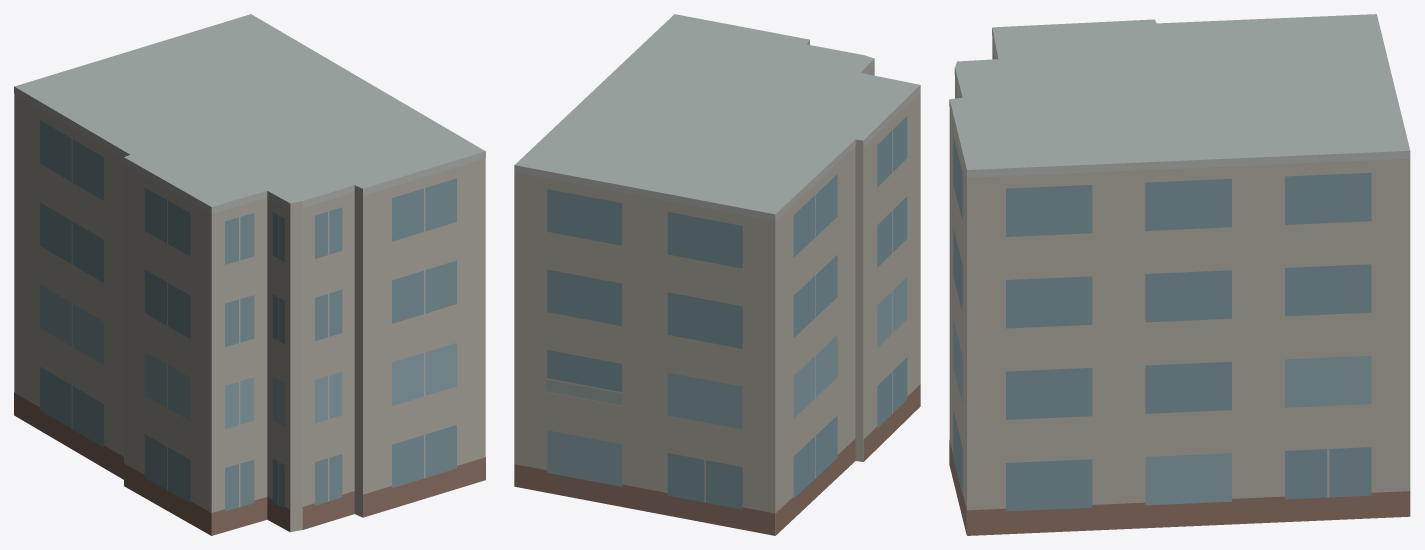
Rendered from survey-upis-32632201.glb.
The picture shows the model from 3 angles, left to right: view 1: azimuth 30°, elevation 25°; view 2: azimuth 150°, elevation 25°; view 3: azimuth 270°, elevation 25°; orthographic projection. The views are drawn at different scales.
Parts seen in each view (by area): view 1: survey-upis-32632201.tmp; view 2: survey-upis-32632201.tmp; view 3: survey-upis-32632201.tmp.
Boxes of the visible parts, <box> form: survey-upis-32632201.tmp: <box>14,14,485,535</box>; survey-upis-32632201.tmp: <box>514,14,920,535</box>; survey-upis-32632201.tmp: <box>949,14,1410,535</box>.
Size of the model in its own units: 10.5 by 11.47 by 13.1.
